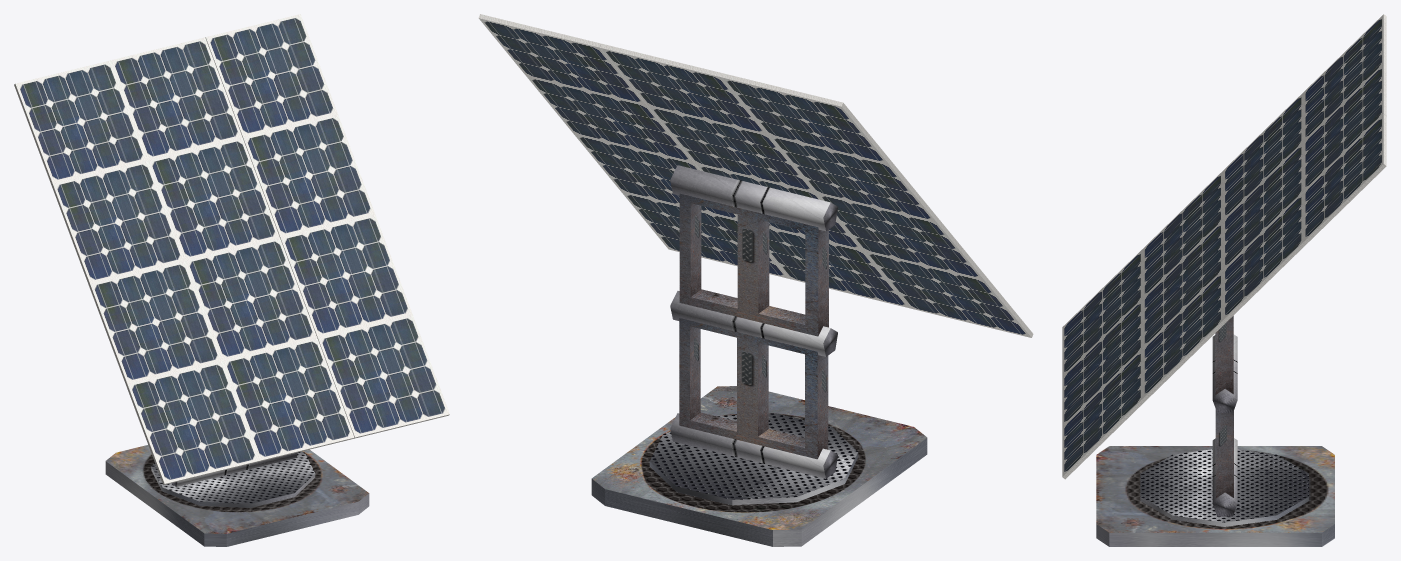
The model's file is panel_07.fbx.
The picture shows the model from 3 angles, left to right: view 1: azimuth 30°, elevation 25°; view 2: azimuth 150°, elevation 25°; view 3: azimuth 270°, elevation 25°; orthographic projection. The views are drawn at different scales.
Parts seen in each view (by area): view 1: pCylinder11, cube_01_high3, cube_01_high6, cube_01_high1, cube_01_high10, cube_01_high8, cube_01_high4, cube_01_high12, cube_01_high7, cube_01_high9, cube_01_high11, cube_01_high5 (+2 smaller); view 2: pCylinder11, polySurface4, polySurface2, cube_01_high10, cube_01_high12, cube_01_high11, cube_01_high6, cube_01_high3, cube_01_high1, cube_01_high9, cube_01_high5, pCylinder36 (+6 smaller); view 3: pCylinder11, cube_01_high12, cube_01_high8, cube_01_high7, cube_01_high9, cube_01_high11, cube_01_high10, cube_01_high5, cube_01_high2, cube_01_high4, cube_01_high1, cube_01_high3 (+5 smaller).
Boxes of the visible parts, x1=… form: pCylinder11: x1=105, y1=445, x2=369, y2=546; cube_01_high3: x1=126, y1=361, x2=259, y2=485; cube_01_high6: x1=51, y1=160, x2=184, y2=284; cube_01_high1: x1=88, y1=260, x2=221, y2=384; cube_01_high10: x1=14, y1=60, x2=147, y2=184; cube_01_high8: x1=317, y1=314, x2=449, y2=438; cube_01_high4: x1=222, y1=337, x2=354, y2=461; cube_01_high12: x1=205, y1=14, x2=337, y2=136; cube_01_high7: x1=280, y1=214, x2=412, y2=337; cube_01_high9: x1=242, y1=114, x2=374, y2=237; cube_01_high11: x1=110, y1=37, x2=242, y2=160; cube_01_high5: x1=147, y1=137, x2=279, y2=260; pCylinder11: x1=591, y1=386, x2=927, y2=546; polySurface4: x1=679, y1=193, x2=828, y2=336; polySurface2: x1=679, y1=318, x2=828, y2=459; cube_01_high10: x1=721, y1=73, x2=890, y2=164; cube_01_high12: x1=478, y1=14, x2=646, y2=105; cube_01_high11: x1=600, y1=44, x2=767, y2=134; cube_01_high6: x1=768, y1=135, x2=938, y2=222; cube_01_high3: x1=864, y1=251, x2=1033, y2=337; cube_01_high1: x1=816, y1=193, x2=985, y2=279; cube_01_high9: x1=526, y1=76, x2=694, y2=162; cube_01_high5: x1=648, y1=106, x2=815, y2=192; pCylinder36: x1=670, y1=165, x2=837, y2=231; pCylinder11: x1=1096, y1=446, x2=1334, y2=546; cube_01_high12: x1=1303, y1=114, x2=1386, y2=244; cube_01_high8: x1=1062, y1=349, x2=1145, y2=479; cube_01_high7: x1=1142, y1=271, x2=1225, y2=400; cube_01_high9: x1=1223, y1=193, x2=1305, y2=322; cube_01_high11: x1=1303, y1=64, x2=1386, y2=191; cube_01_high10: x1=1303, y1=14, x2=1386, y2=141; cube_01_high5: x1=1223, y1=142, x2=1303, y2=270; cube_01_high2: x1=1142, y1=221, x2=1222, y2=348; cube_01_high4: x1=1062, y1=299, x2=1142, y2=426; cube_01_high1: x1=1142, y1=171, x2=1222, y2=298; cube_01_high3: x1=1062, y1=249, x2=1142, y2=376.
Bounding box in the file's own units: 30.05 × 38.71 × 27.48.
